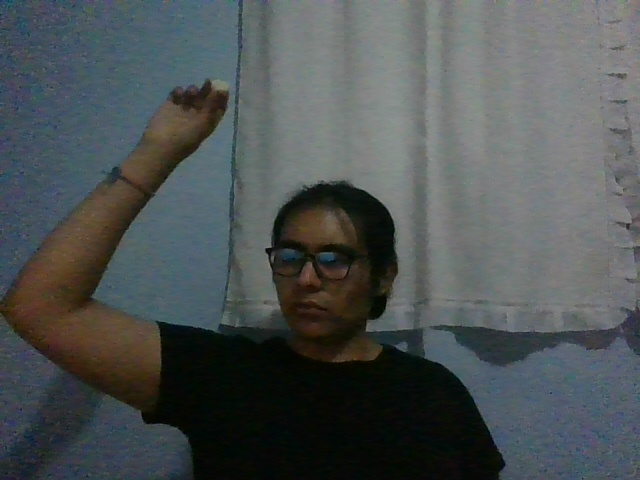goma: (210, 79, 229, 92)
